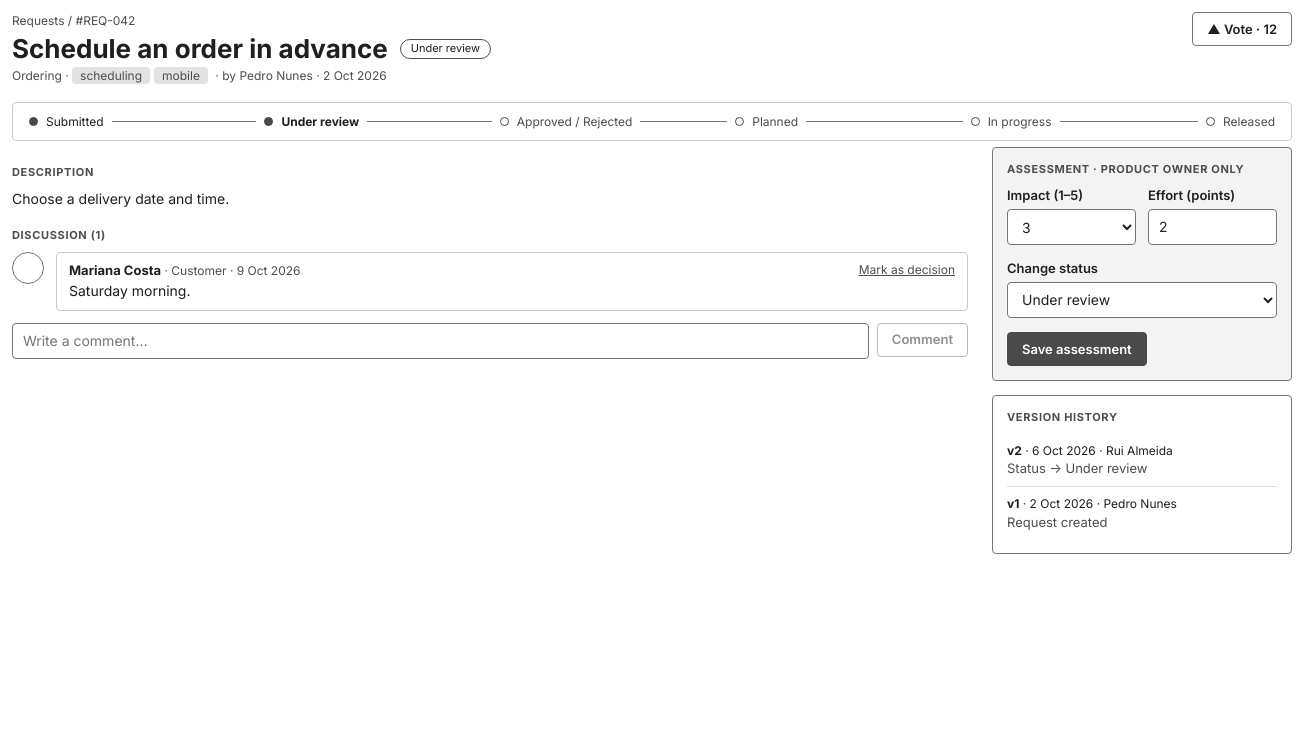
Test: Request detail › explains a version conflict instead of overwriting
What coordinates should you click on to do the following:
click the button "Save assessment"
I would click on:
 (1077, 349)
Its box is [1007, 332, 1147, 366].
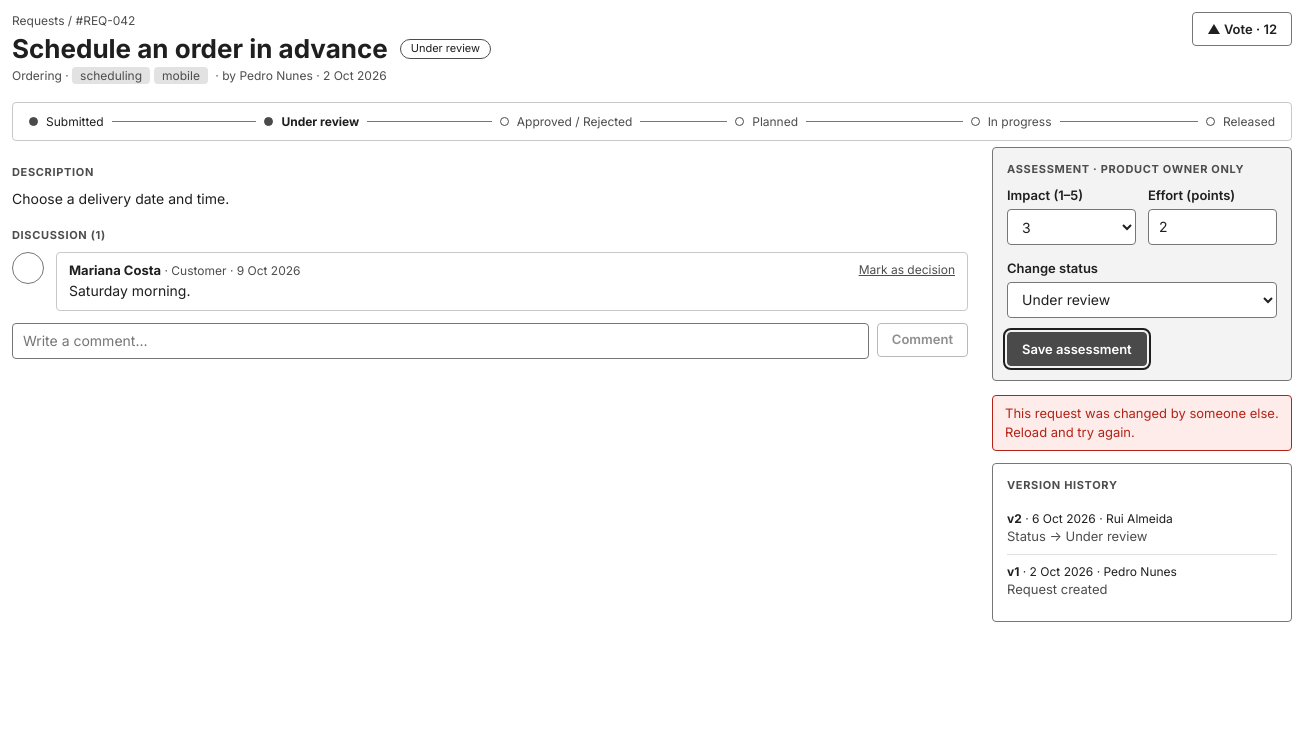
Check: the message shows "changed by someone else", box [1005, 405, 1279, 440]
